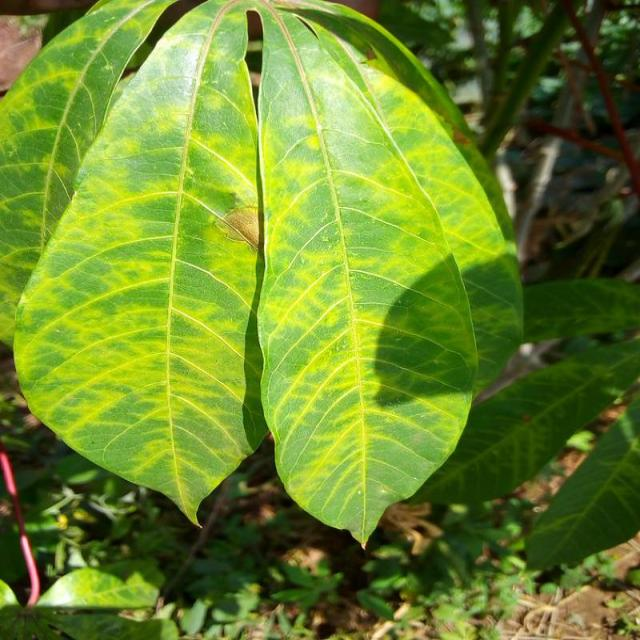cassava leaf: (6, 0, 523, 548), (11, 0, 267, 528), (254, 2, 480, 549)
